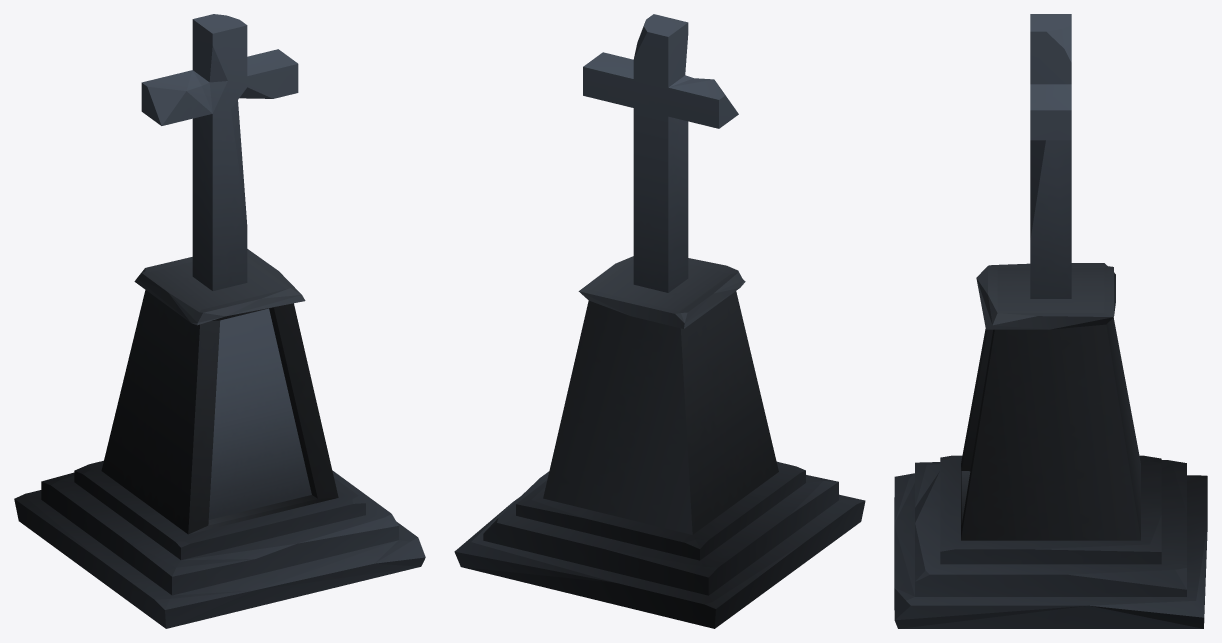
File: Grave statue.fbx
3 renders of one model, left to right at view 1: azimuth 30°, elevation 25°; view 2: azimuth 150°, elevation 25°; view 3: azimuth 270°, elevation 25°, orthographic. The views are drawn at different scales.
Visible parts, largest first — view 1: Cross; view 2: Cross; view 3: Cross.
Boxes of the visible parts, x1=… form: Cross: x1=14, y1=14, x2=425, y2=628; Cross: x1=454, y1=14, x2=865, y2=628; Cross: x1=894, y1=14, x2=1207, y2=628.
Size of the model in its own units: 252 by 474 by 249.
1 material, 1 textured.
